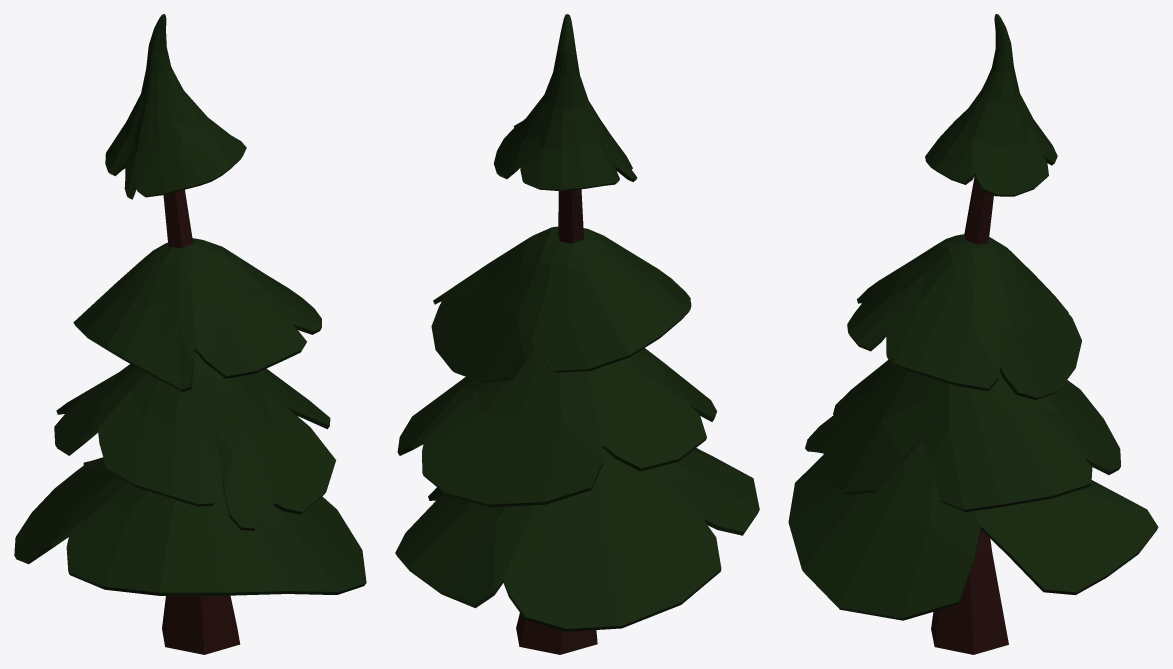
Rendered from PineTree_2.glb.
3 renders of one model, left to right at view 1: azimuth 30°, elevation 25°; view 2: azimuth 150°, elevation 25°; view 3: azimuth 270°, elevation 25°, orthographic. The views are drawn at different scales.
Parts seen in each view (by area): view 1: PineTree_2_Cylinder.024; view 2: PineTree_2_Cylinder.024; view 3: PineTree_2_Cylinder.024.
Boxes of the visible parts, x1,y1,x2,y2 form: PineTree_2_Cylinder.024: (14, 14, 366, 654); PineTree_2_Cylinder.024: (395, 14, 759, 654); PineTree_2_Cylinder.024: (788, 14, 1158, 654).
Size of the model in its own units: 1.8 by 3.56 by 1.96.
